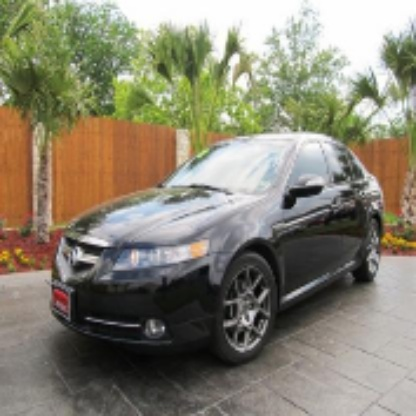Vehicle: (51, 132, 386, 365)
